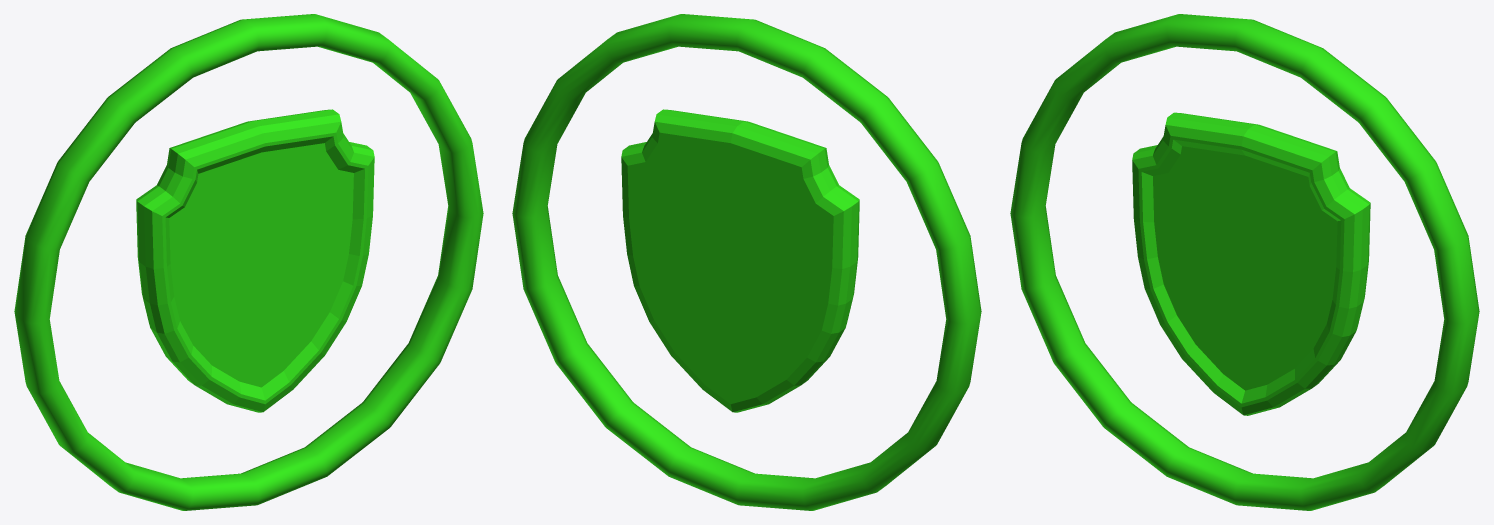
The model's file is 16_Buff_stunning.fbx.
3 renders of one model, left to right at view 1: azimuth 30°, elevation 25°; view 2: azimuth 150°, elevation 25°; view 3: azimuth 330°, elevation 25°, orthographic.
Parts seen in each view (by area): view 1: 16_Buff_stunning; view 2: 16_Buff_stunning; view 3: 16_Buff_stunning.
Boxes of the visible parts, x1,y1,x2,y2 form: 16_Buff_stunning: [14, 14, 483, 510]; 16_Buff_stunning: [512, 14, 981, 510]; 16_Buff_stunning: [1010, 14, 1479, 510].
Bounding box in the file's own units: 116 × 116 × 8.71.
